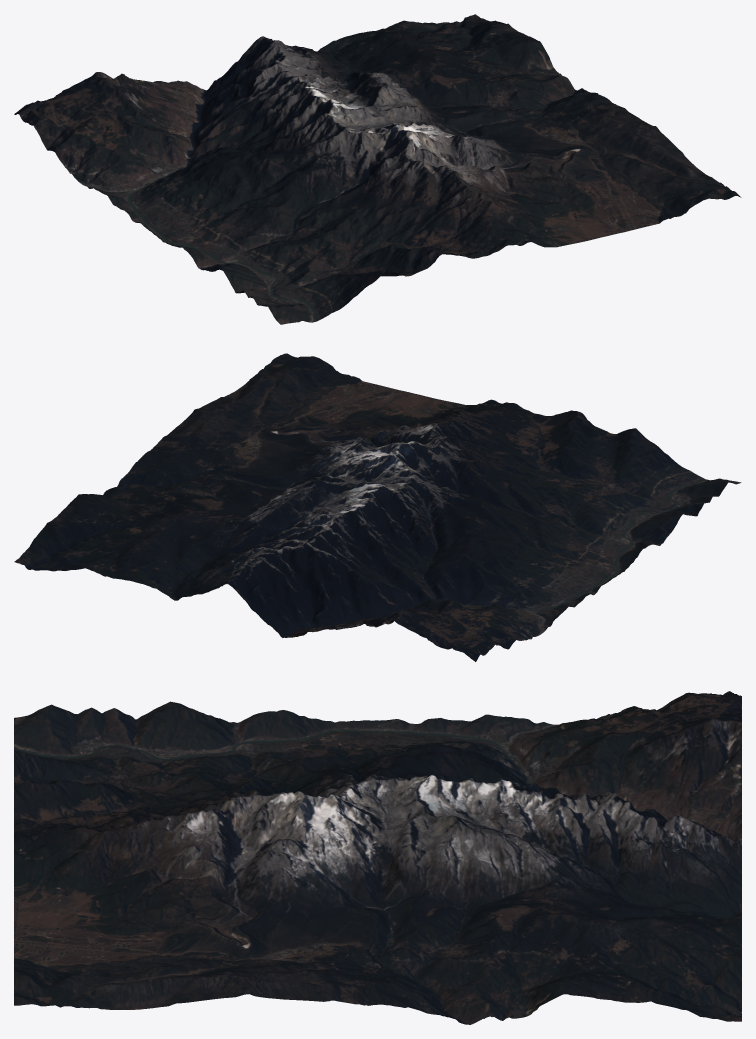
The model's file is yuelongxueshan.glb.
3 renders of one model, top to bottom at view 1: azimuth 30°, elevation 25°; view 2: azimuth 150°, elevation 25°; view 3: azimuth 270°, elevation 25°, orthographic. The views are drawn at different scales.
Parts seen in each view (by area): view 1: yulongxueshan; view 2: yulongxueshan; view 3: yulongxueshan.
Boxes of the visible parts, x1,y1,x2,y2 form: yulongxueshan: [14, 14, 741, 324]; yulongxueshan: [14, 353, 741, 661]; yulongxueshan: [14, 691, 741, 1024].
Bounding box in the file's own units: 89.94 × 12.46 × 89.92.
Materials: 1 (1 with a texture image).
